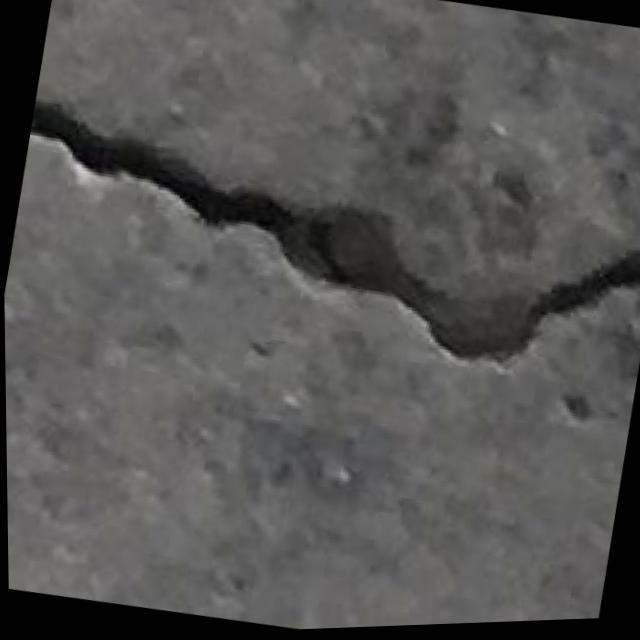Crack: (1, 75, 640, 416)
